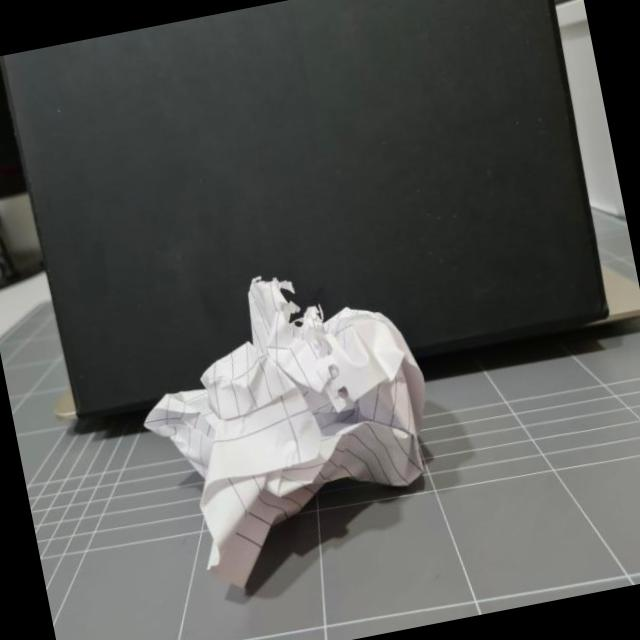cardboard paper: (147, 277, 426, 584)
